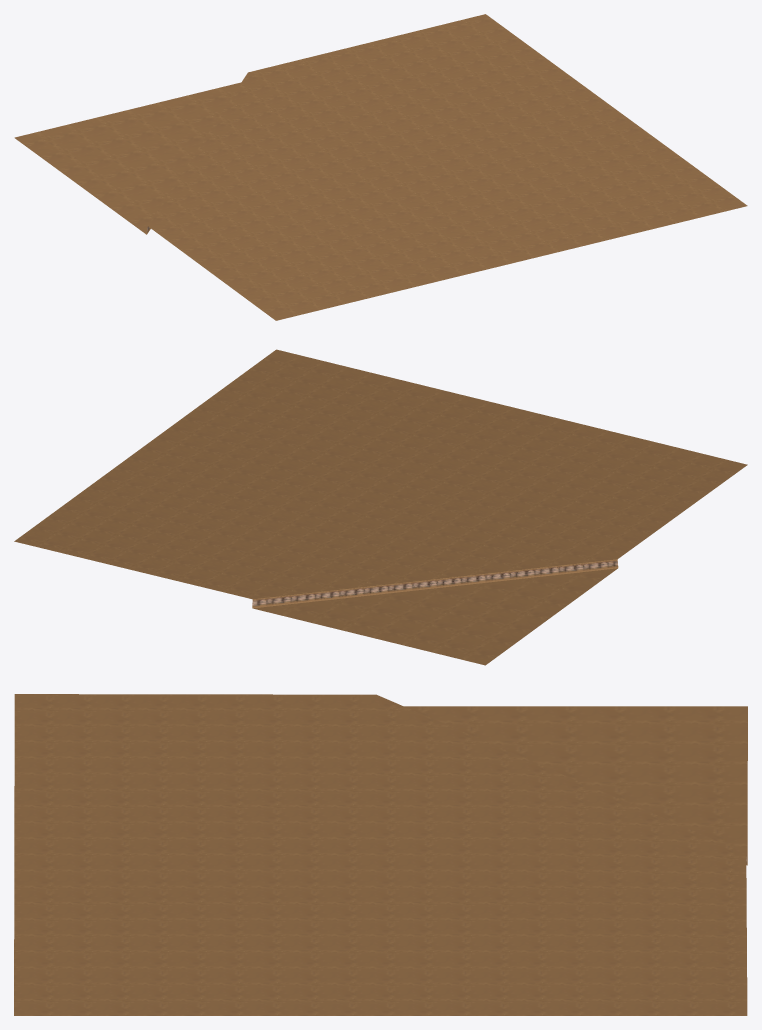
3 renders of one model, top to bottom at view 1: azimuth 30°, elevation 25°; view 2: azimuth 150°, elevation 25°; view 3: azimuth 270°, elevation 25°, orthographic. The views are drawn at different scales.
Parts seen in each view (by area): view 1: d01; view 2: d01; view 3: d01.
Boxes of the visible parts, x1,y1,x2,y2 form: d01: (14, 14, 747, 320); d01: (14, 349, 747, 665); d01: (14, 694, 747, 1015).
Bounding box in the file's own units: 31255 × 554 × 30120.
2 materials, 2 textured.
